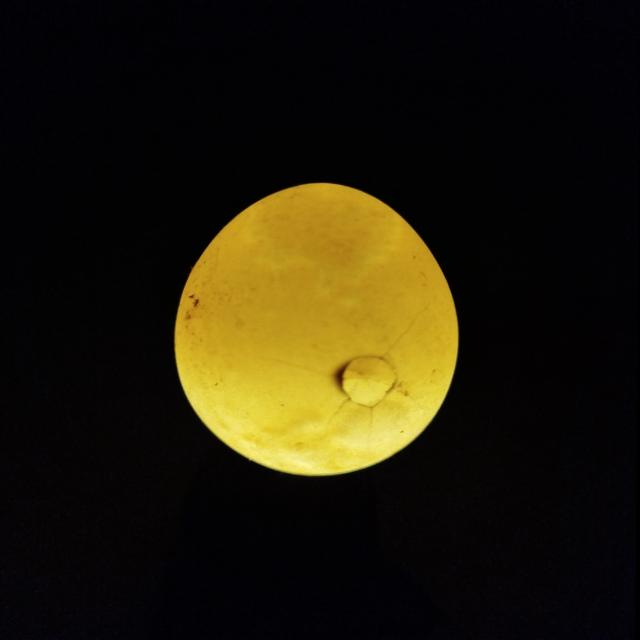Camara de Ar: (248, 183, 404, 282)
Rachadura: (279, 304, 431, 443)
